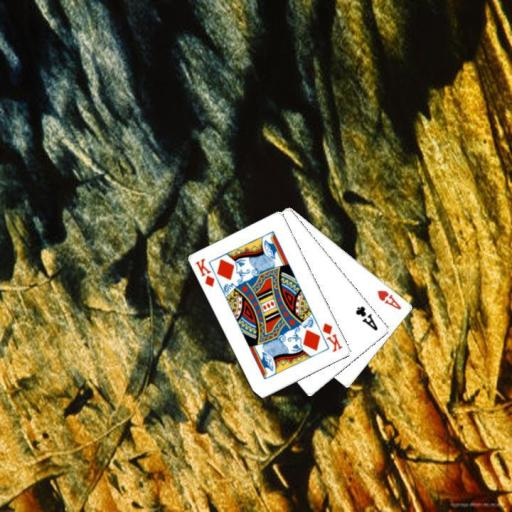AC: (353, 303, 380, 332)
AH: (374, 287, 403, 312)
KD: (319, 320, 344, 354), (192, 255, 216, 289)
